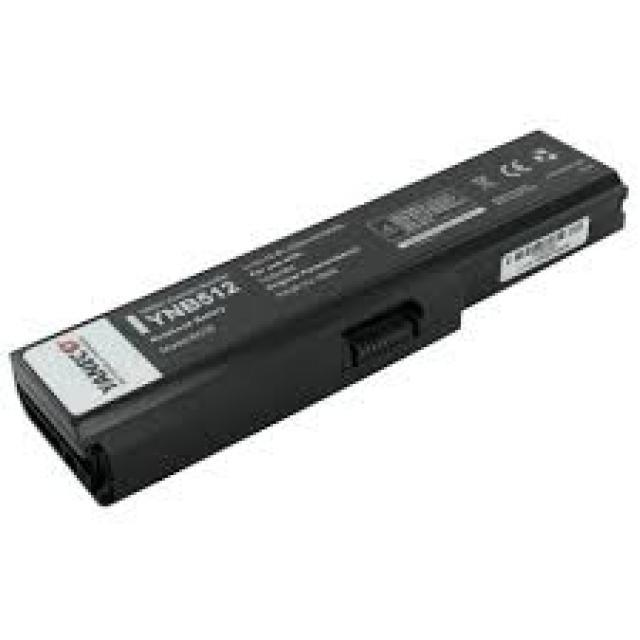battery: (8, 125, 628, 505)
